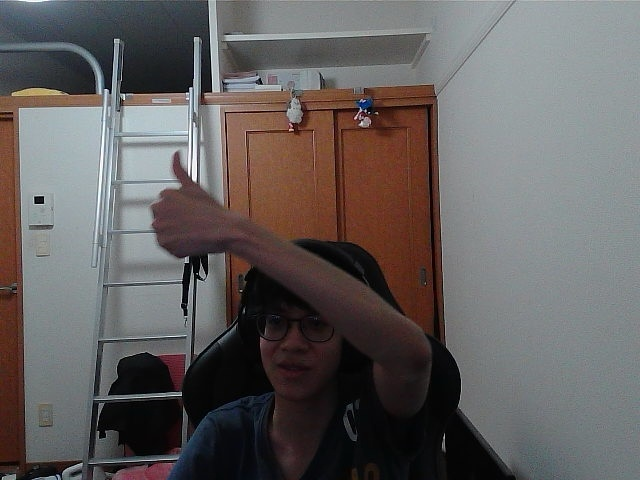thumb_up: (158, 157, 221, 245)
